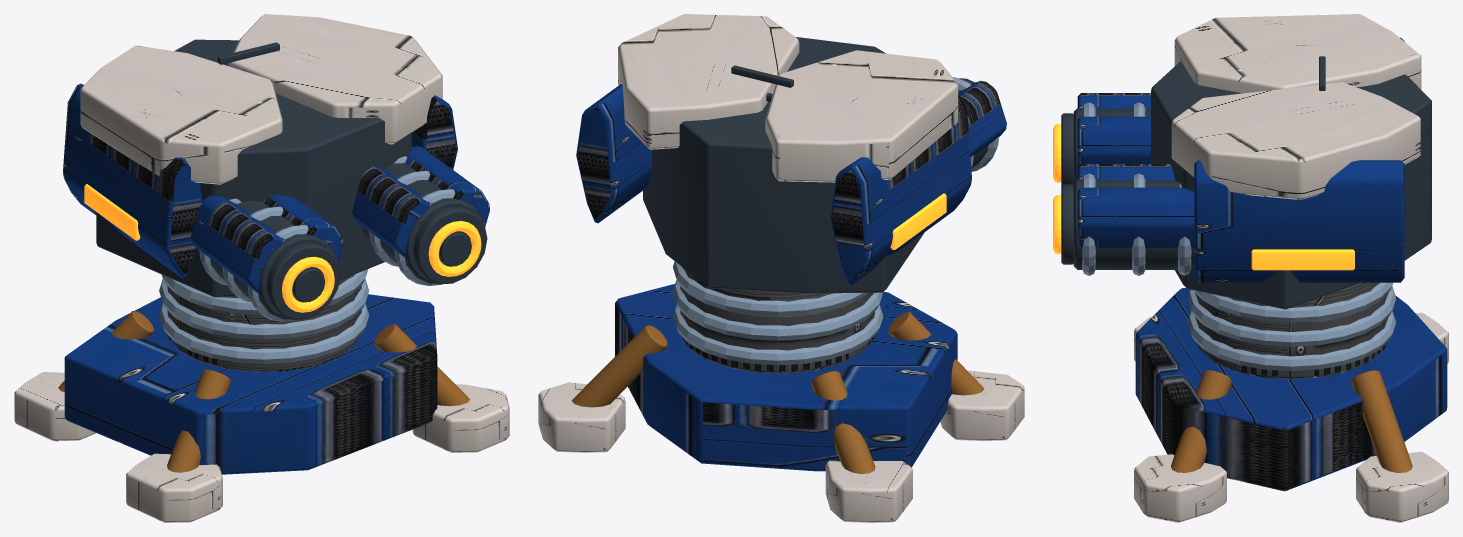
The model's file is turret.glb.
3 views of the same model, side by side, from view 1: azimuth 30°, elevation 25°; view 2: azimuth 150°, elevation 25°; view 3: azimuth 270°, elevation 25° (orthographic).
Visible parts, largest first — view 1: Turret hex anchor, Splayed planted foot, Sloped rotating gun mantle, Turntable bearing, Rotating actuator, Anchoring hydraulic, Muzzle lens ring; view 2: Turret hex anchor, Splayed planted foot, Sloped rotating gun mantle, Turntable bearing, Anchoring hydraulic, Rotating actuator, Muzzle lens ring; view 3: Turret hex anchor, Splayed planted foot, Sloped rotating gun mantle, Turntable bearing, Rotating actuator, Anchoring hydraulic, Muzzle lens ring.
Boxes of the visible parts, x1,y1,x2,y2 form: Turret hex anchor: [63, 83, 489, 474]; Splayed planted foot: [14, 14, 509, 522]; Sloped rotating gun mantle: [96, 39, 487, 319]; Turntable bearing: [159, 156, 455, 364]; Rotating actuator: [167, 274, 361, 372]; Anchoring hydraulic: [58, 311, 469, 472]; Muzzle lens ring: [84, 184, 481, 312]; Turret hex anchor: [576, 80, 1006, 471]; Splayed planted foot: [538, 14, 1024, 522]; Sloped rotating gun mantle: [643, 37, 988, 293]; Turntable bearing: [673, 77, 998, 365]; Anchoring hydraulic: [571, 312, 984, 473]; Rotating actuator: [680, 267, 874, 373]; Muzzle lens ring: [890, 193, 946, 249]; Turret hex anchor: [1077, 37, 1447, 491]; Splayed planted foot: [1134, 14, 1448, 522]; Sloped rotating gun mantle: [1061, 56, 1431, 309]; Turntable bearing: [1082, 102, 1395, 370]; Rotating actuator: [1195, 282, 1388, 379]; Anchoring hydraulic: [1171, 370, 1412, 472]; Muzzle lens ring: [1053, 123, 1354, 270].
Bounding box in the file's own units: 1.1 × 1.05 × 1.03.
7 materials, 3 textured.
